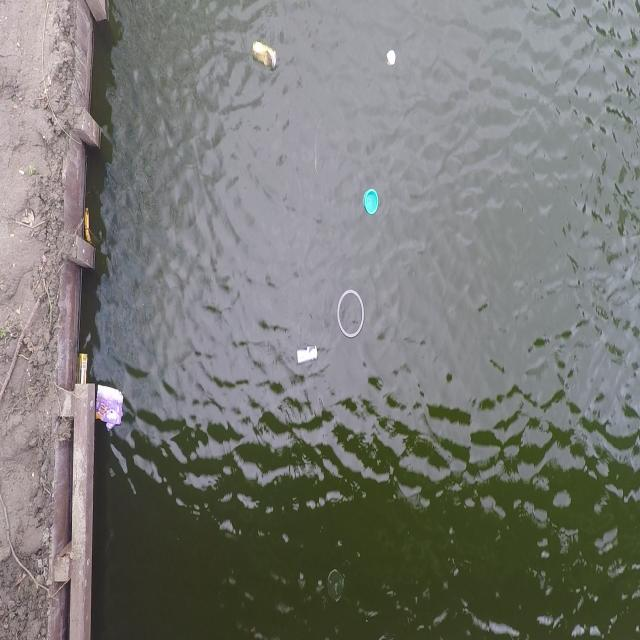Autre plastique: (362, 183, 382, 220)
Non plastique: (248, 38, 282, 76), (293, 342, 323, 369)
